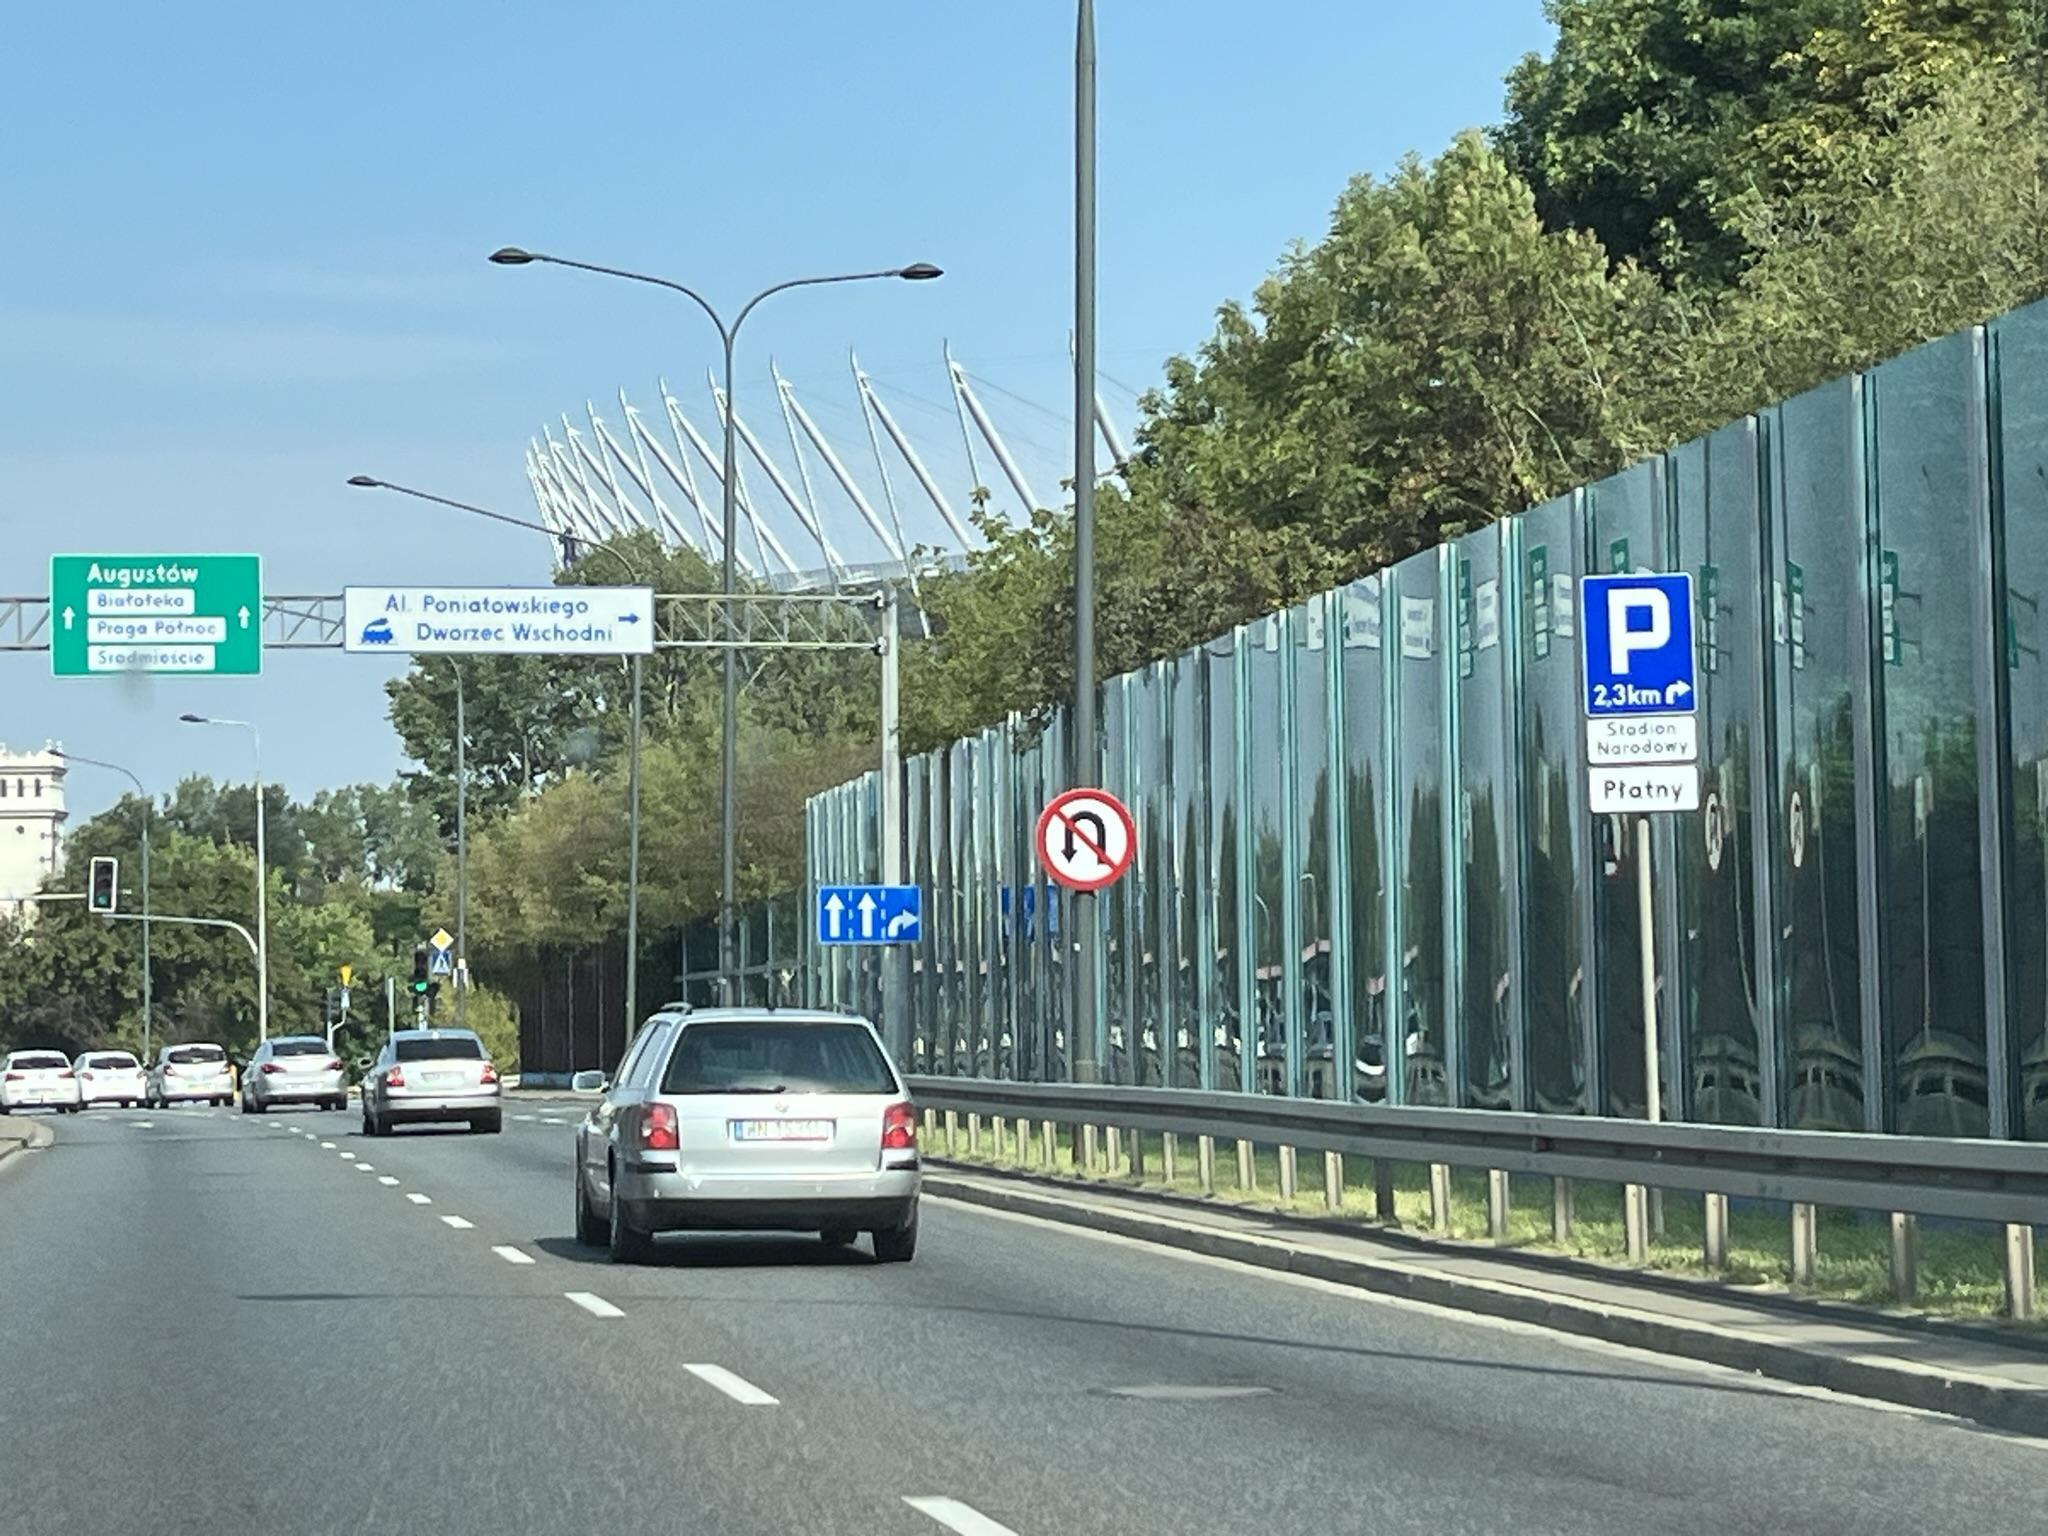direction-city: (48, 552, 256, 670), (347, 584, 655, 652)
information: (1580, 574, 1695, 713), (429, 928, 455, 950), (432, 952, 452, 975)
other: (1588, 762, 1700, 813), (819, 886, 921, 942), (1587, 716, 1695, 765)
prohibitory: (1034, 787, 1138, 891)
